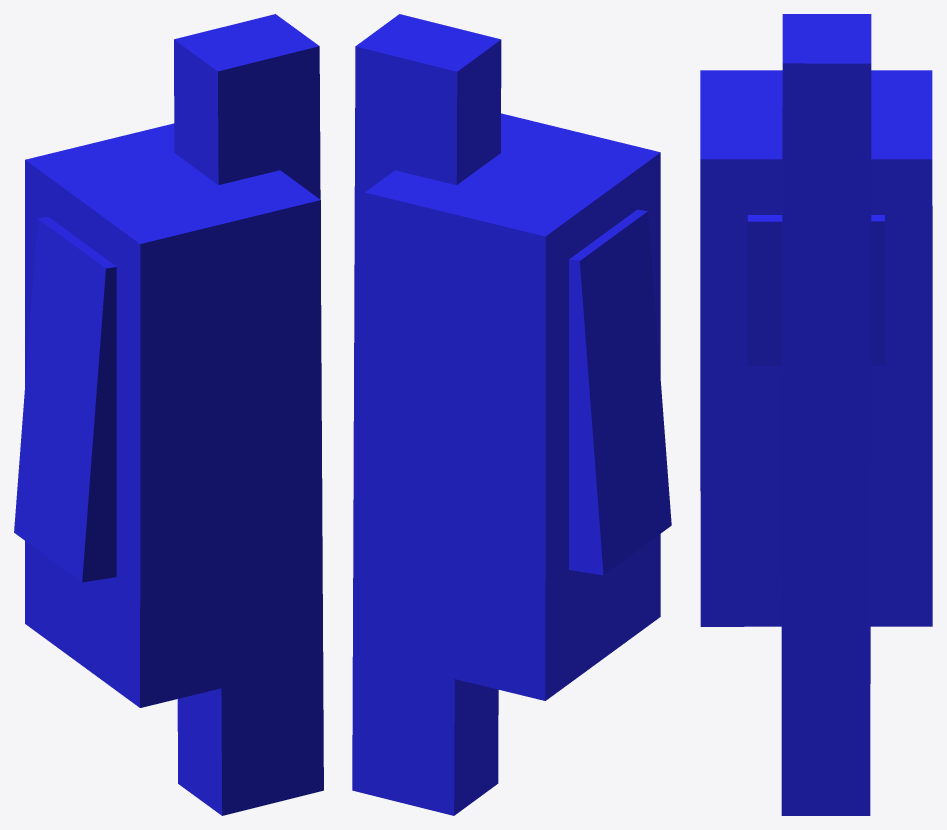
The picture shows the model from 3 angles, left to right: view 1: azimuth 30°, elevation 25°; view 2: azimuth 150°, elevation 25°; view 3: azimuth 270°, elevation 25°; orthographic projection.
Visible parts, largest first — view 1: Right_BarrettHand_fingerLink_respondable0; view 2: Right_BarrettHand_fingerLink_respondable0; view 3: Right_BarrettHand_fingerLink_respondable0.
Boxes of the visible parts, left/top/right/bottom form: Right_BarrettHand_fingerLink_respondable0: left=14, top=14, right=323, bottom=815; Right_BarrettHand_fingerLink_respondable0: left=352, top=14, right=671, bottom=815; Right_BarrettHand_fingerLink_respondable0: left=700, top=14, right=932, bottom=815.
Bounding box in the file's own units: 0.0254 × 0.07 × 0.0196.
